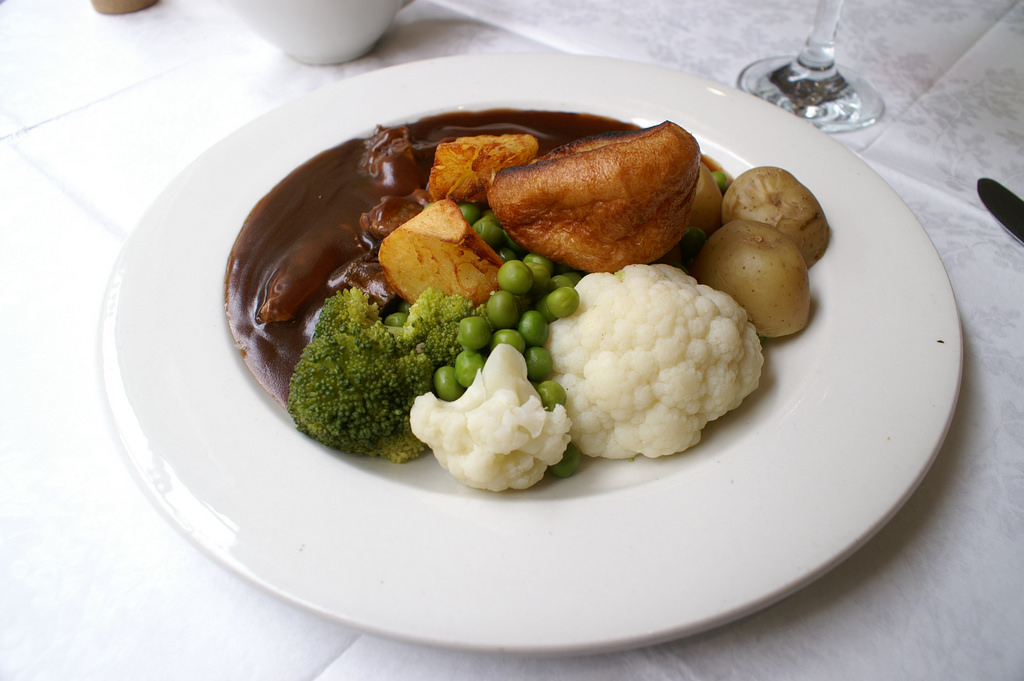boiled peas: (504, 258, 555, 337)
